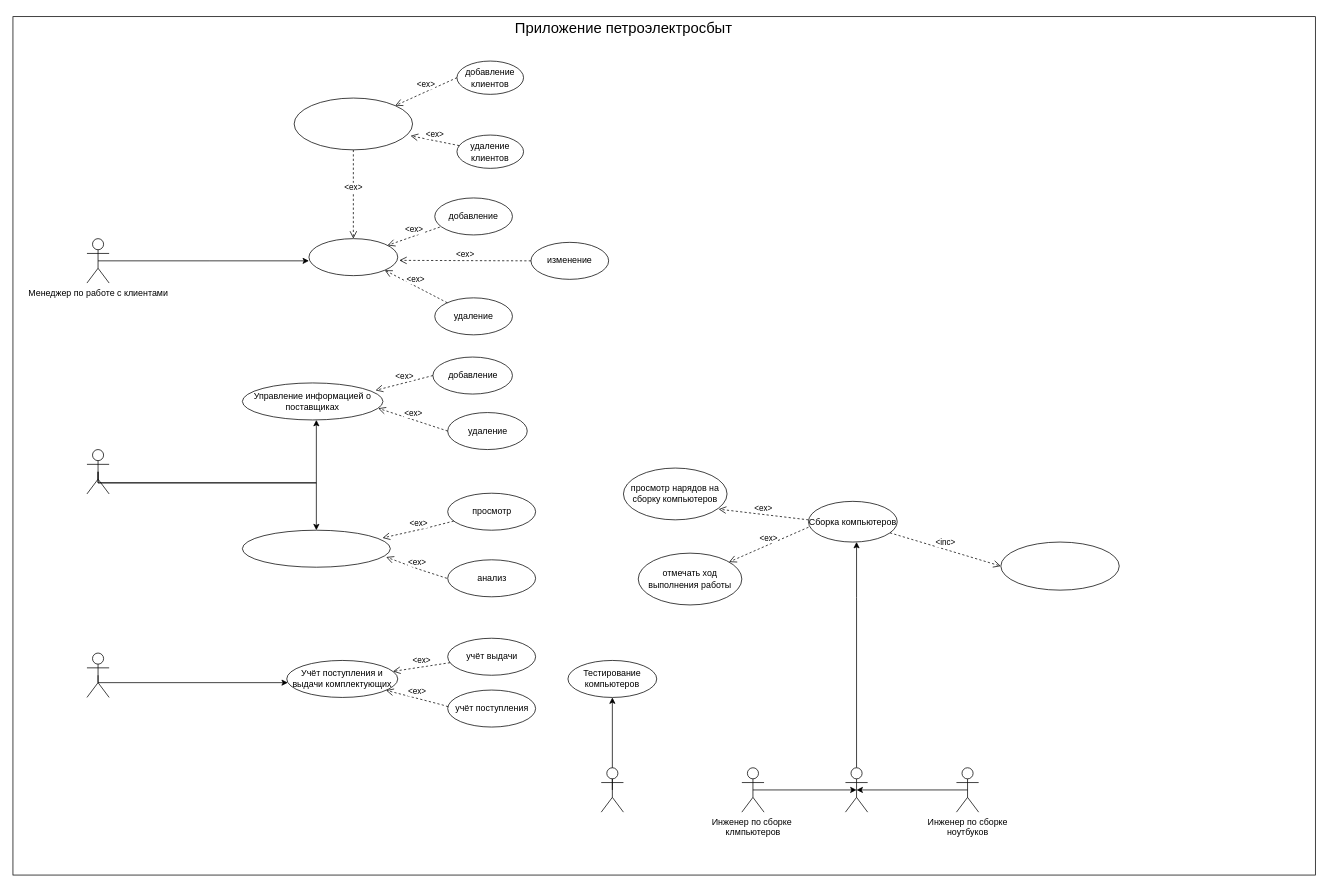
This 1328x888 diagram has some shape labels left out. The shapes that lost their labels are listed below. From the top down, each one's box as (x1, y1, x2, y2) in pixels, then its label:
(293, 97, 413, 150): Управление информацией о клиенте
(308, 238, 398, 276): Работа с заказом
(86, 449, 109, 494): Менеджер по снабжению
(242, 529, 390, 567): Управление информацией о комплектующих
(1000, 541, 1119, 590): Требование необходимых комплектующих
(86, 652, 109, 697): Завскладом
(601, 767, 623, 812): Инженер по тестированию
(845, 767, 868, 812): Инженер по сборке
